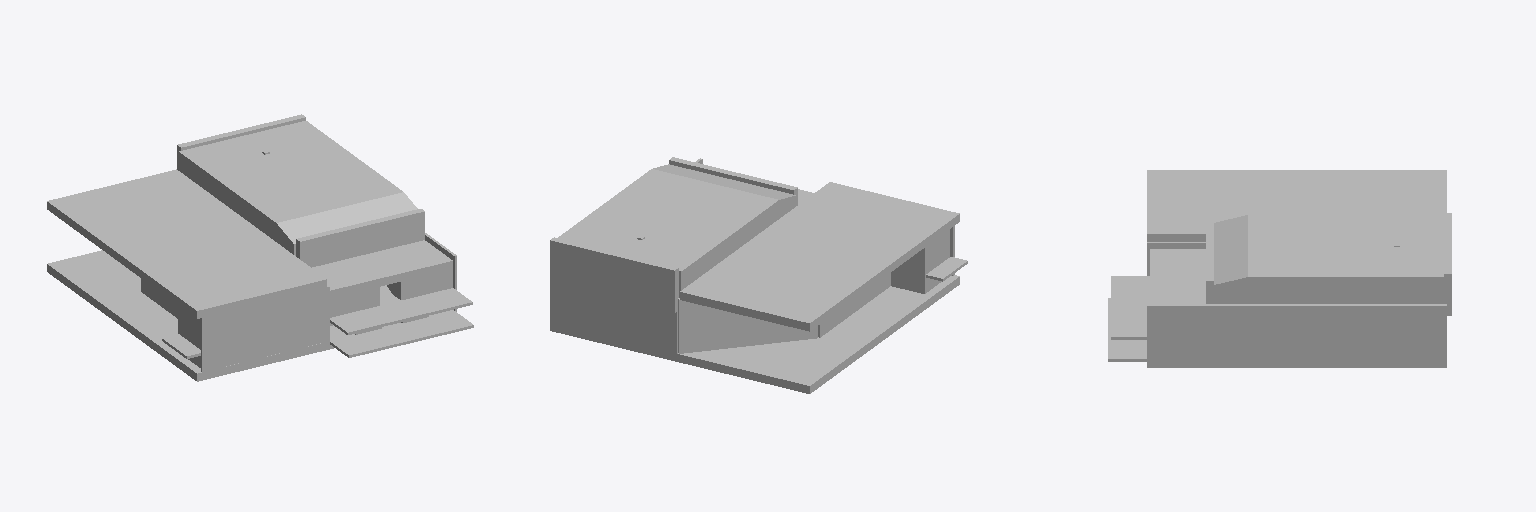
File: level.obj
3 renders of one model, left to right at view 1: azimuth 30°, elevation 25°; view 2: azimuth 150°, elevation 25°; view 3: azimuth 270°, elevation 25°, orthographic.
Parts seen in each view (by area): view 1: Cube.015, Cube.028, Cube.010, Cube.014, Cube.029, Cube.017, Cube.031, Cube.058, Cube.057, Cube.006, Cube.007, Cube.030 (+2 smaller); view 2: Cube.015, Cube.010, Cube.028, Cube.029, Cube.030, Cube.001, Cube.011, Cube, Cube.031, Cube.012, Cube.059, Cube.060 (+1 smaller); view 3: Cube.003, Cube.015, Cube.028, Cube.029, Cube.017, Cube, Cube.058, Cube.057, Cube.030, Cube.031.
Boxes of the visible parts, box(x1,y1,x2,y2) form: Cube.015: box(47, 169, 326, 318); Cube.028: box(223, 153, 417, 255); Cube.010: box(47, 250, 326, 381); Cube.014: box(201, 288, 326, 371); Cube.029: box(178, 121, 349, 202); Cube.017: box(312, 240, 452, 298); Cube.031: box(296, 209, 424, 267); Cube.058: box(330, 288, 472, 334); Cube.057: box(330, 311, 473, 357); Cube.006: box(387, 269, 452, 299); Cube.007: box(330, 287, 379, 325); Cube.030: box(177, 114, 305, 169); Cube.015: box(680, 182, 959, 331); Cube.010: box(680, 275, 959, 393); Cube.028: box(599, 164, 796, 257); Cube.029: box(558, 208, 725, 297); Cube.030: box(550, 237, 678, 312); Cube.001: box(552, 283, 677, 353); Cube.011: box(678, 298, 817, 353); Cube: box(550, 323, 679, 362); Cube.031: box(669, 157, 797, 205); Cube.012: box(818, 273, 890, 337); Cube.059: box(891, 249, 922, 293); Cube.060: box(923, 230, 949, 293); Cube.003: box(1147, 304, 1446, 359); Cube.015: box(1147, 170, 1446, 241); Cube.028: box(1213, 215, 1353, 303); Cube.029: box(1354, 215, 1443, 303); Cube.017: box(1150, 249, 1205, 303); Cube: box(1147, 360, 1446, 367); Cube.058: box(1111, 276, 1149, 339); Cube.057: box(1108, 298, 1146, 361); Cube.030: box(1444, 213, 1451, 315); Cube.031: box(1206, 220, 1213, 303).
Size of the model in its own units: 207 by 68.31 by 229.